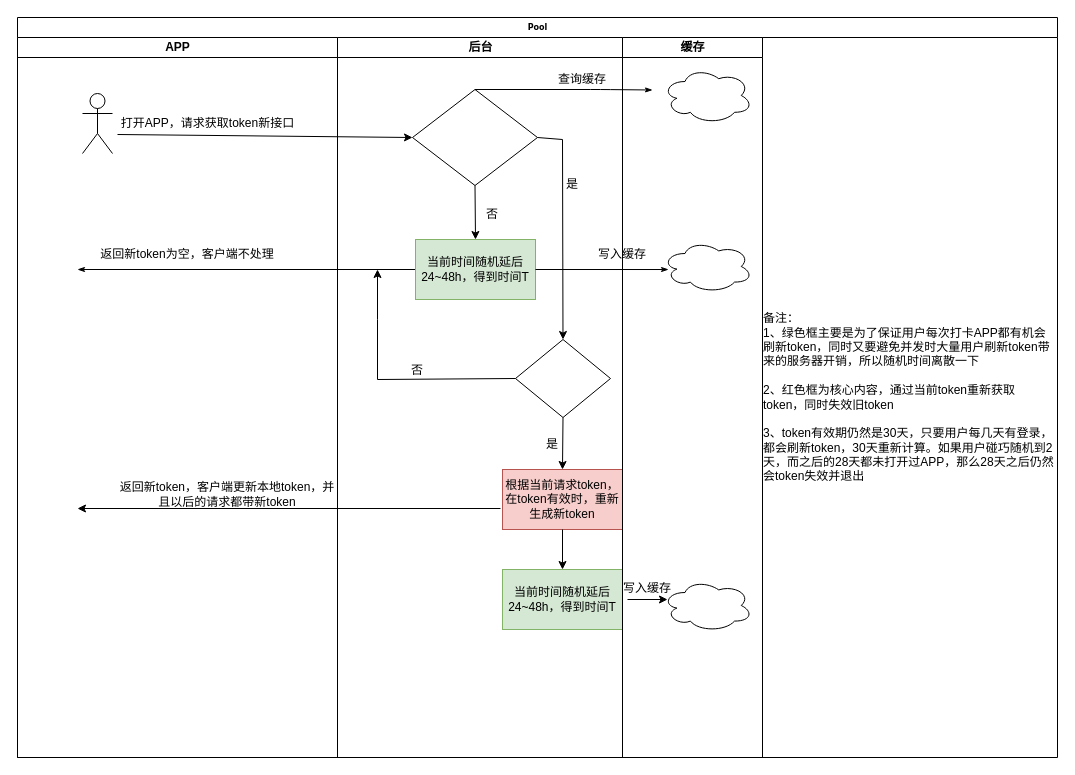
The diagram is 1075 pixels wide and 775 high, and some of its shapes have lost their labels. The shapes that lost their labels are listed below. From the top down, each one's centre as x and y in pixels, then its label:
the point at 97,123: Actor
the point at 475,137: 是否存在下次 更新时间
the point at 562,378: 当前是否在 T之后
